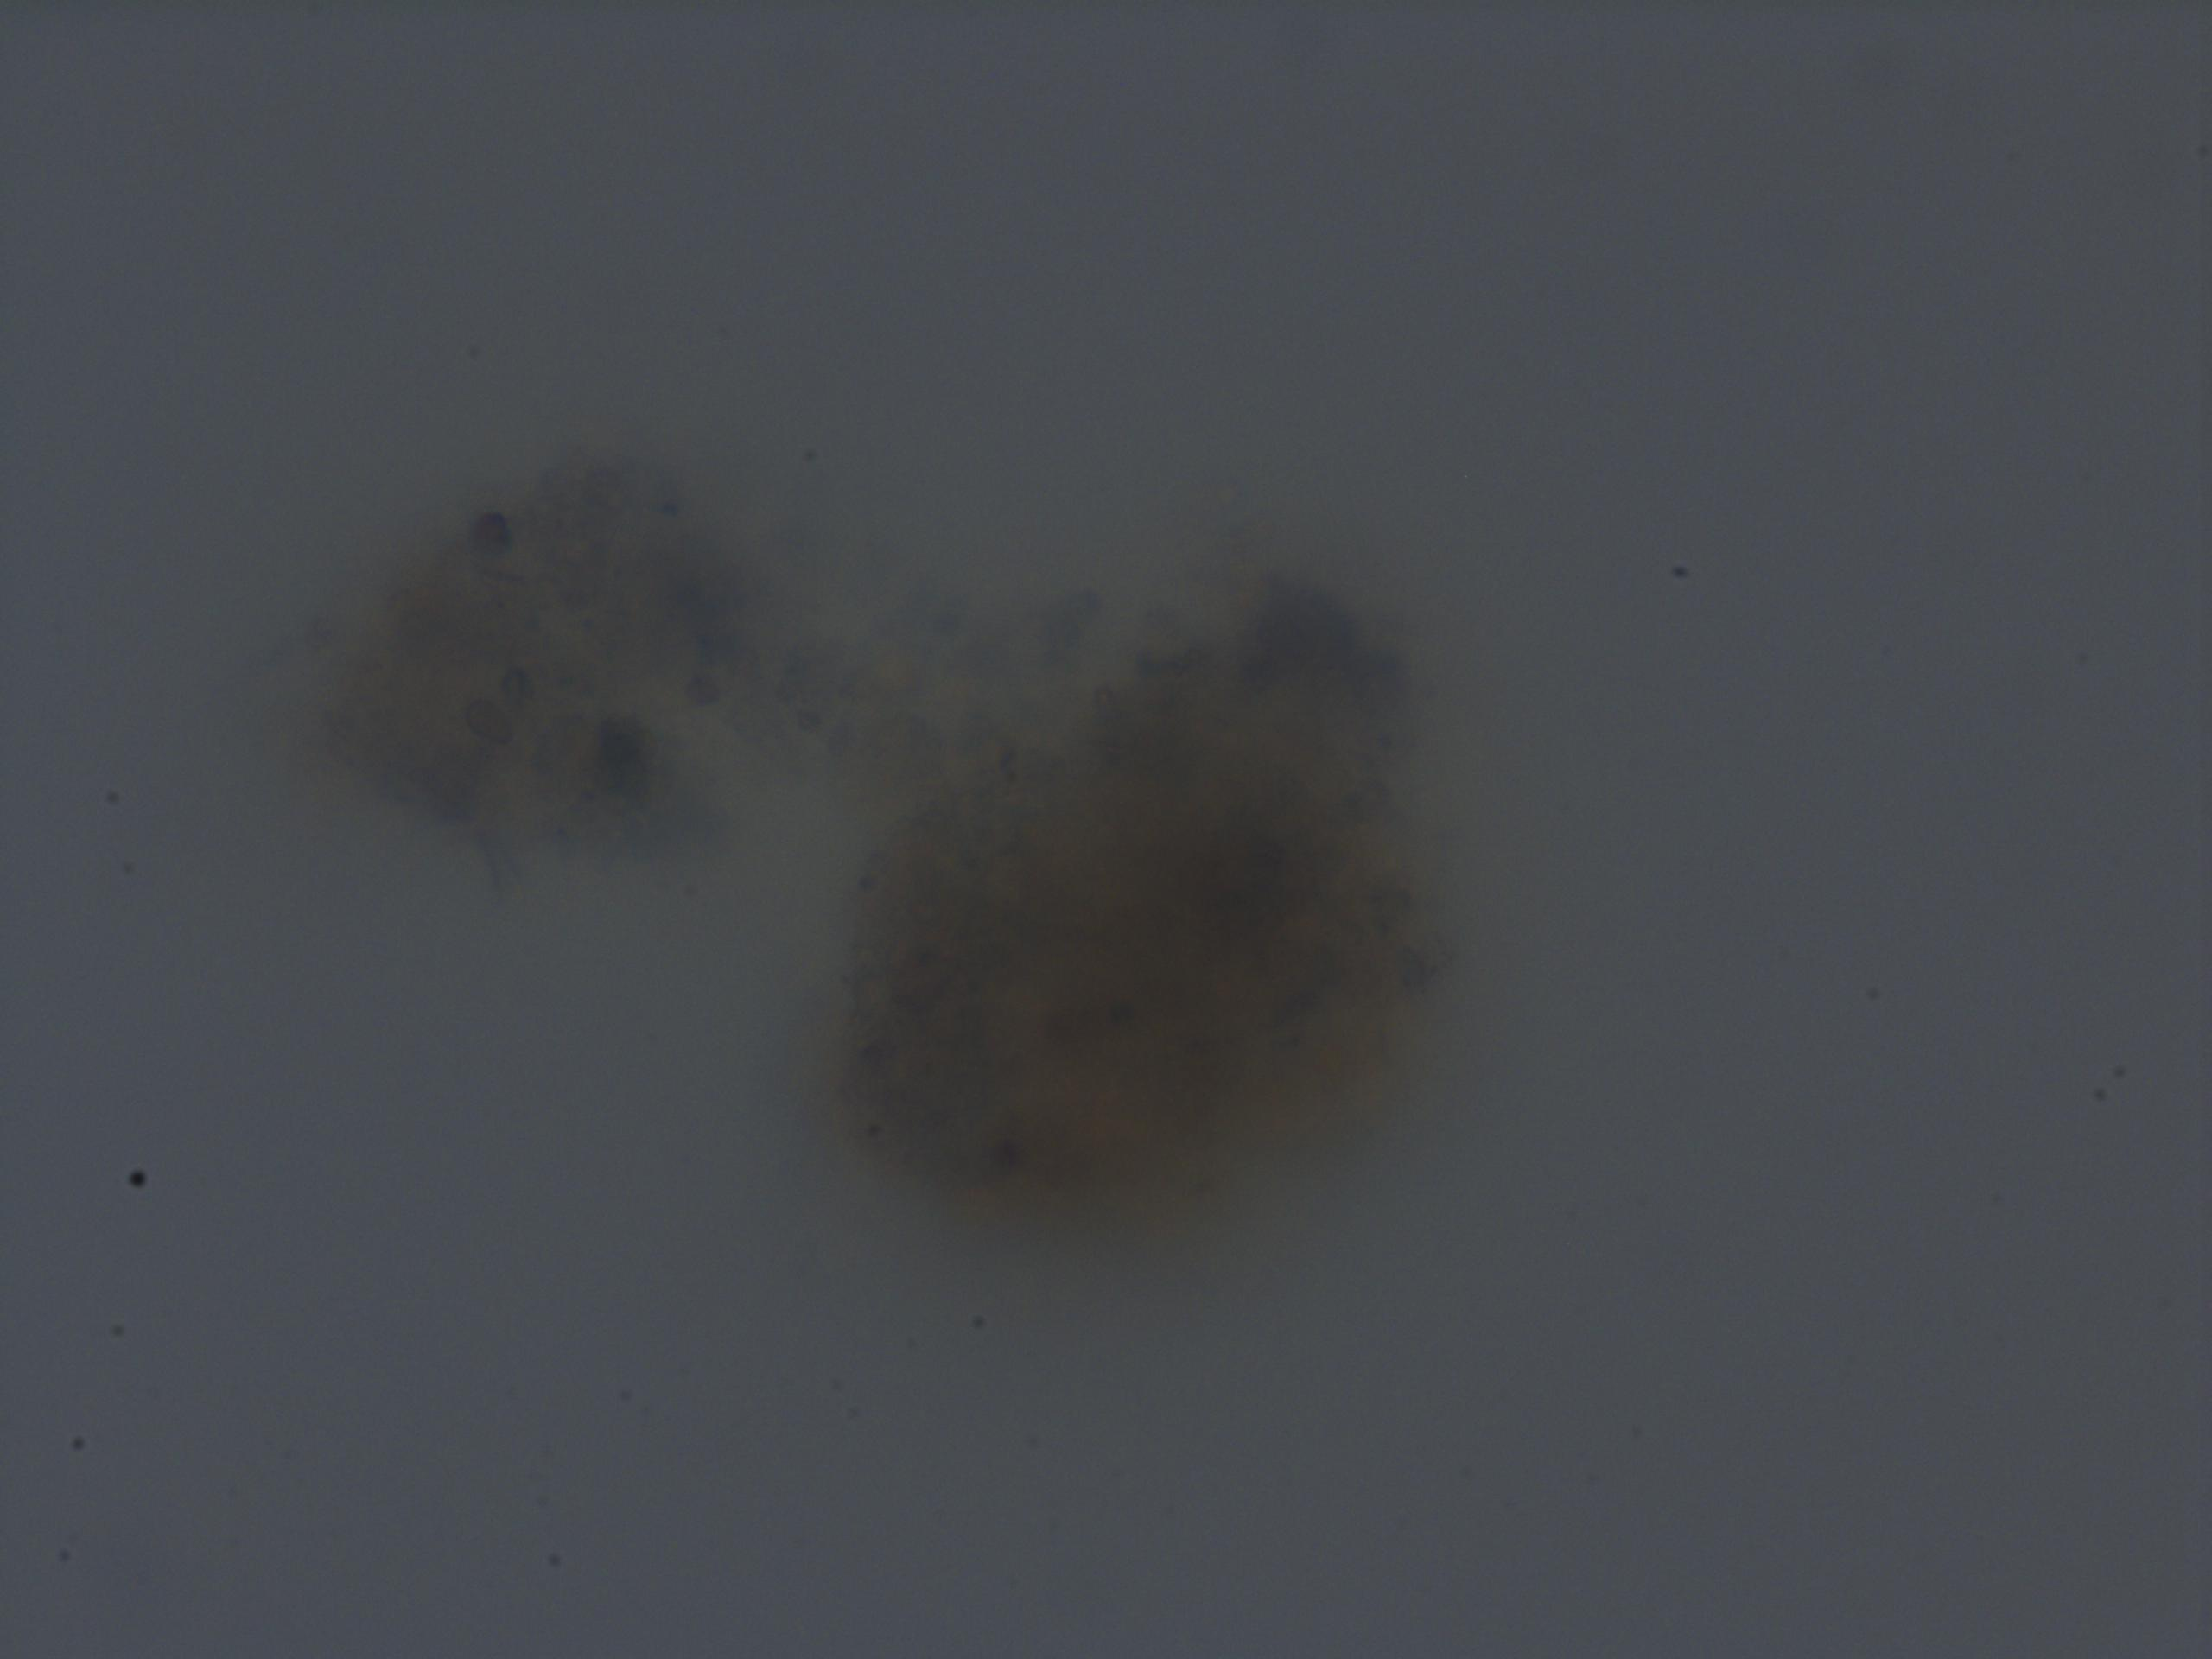protozoa: (812, 544, 1458, 1267)
